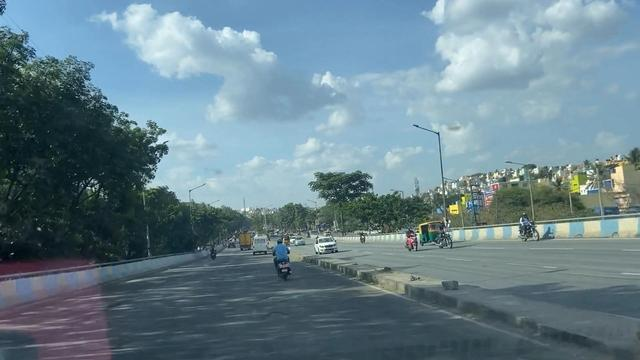LMV: (271, 232, 293, 274)
